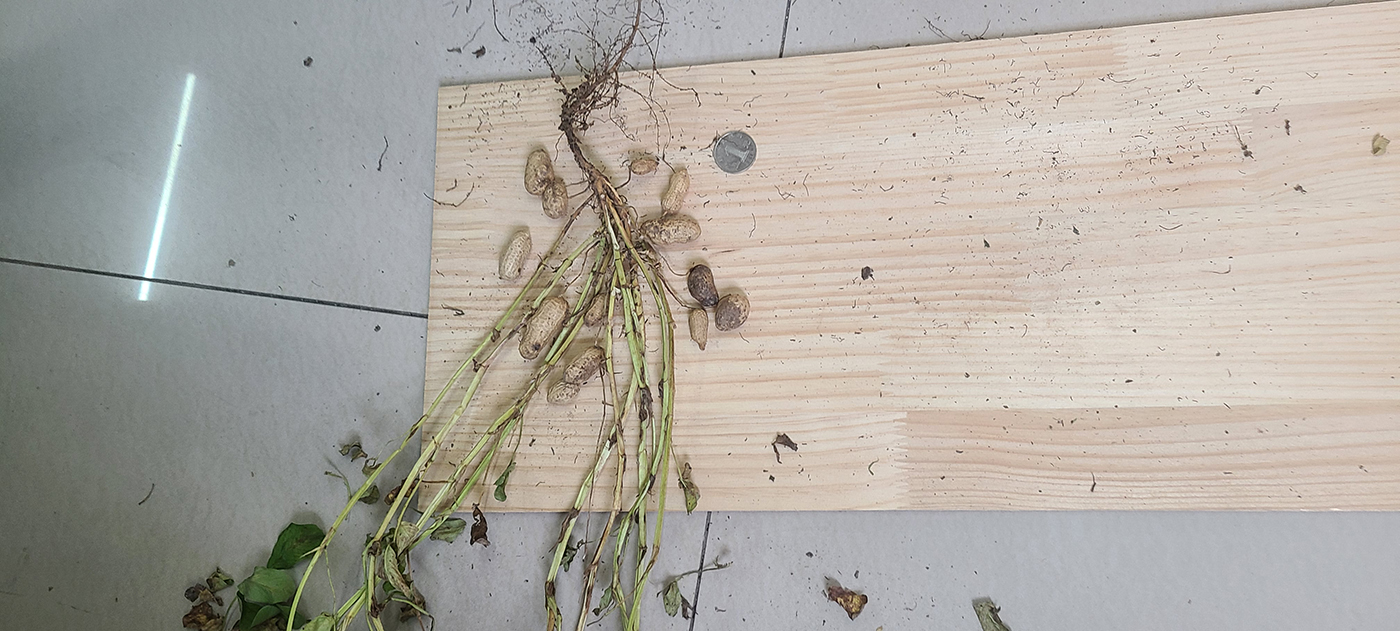h: (549, 344, 607, 406), (519, 294, 568, 359), (640, 216, 702, 247), (499, 230, 531, 278), (525, 147, 554, 194), (660, 169, 688, 214), (541, 178, 568, 220), (583, 293, 609, 327), (688, 308, 708, 350)
l: (716, 293, 750, 332), (688, 265, 719, 307)
